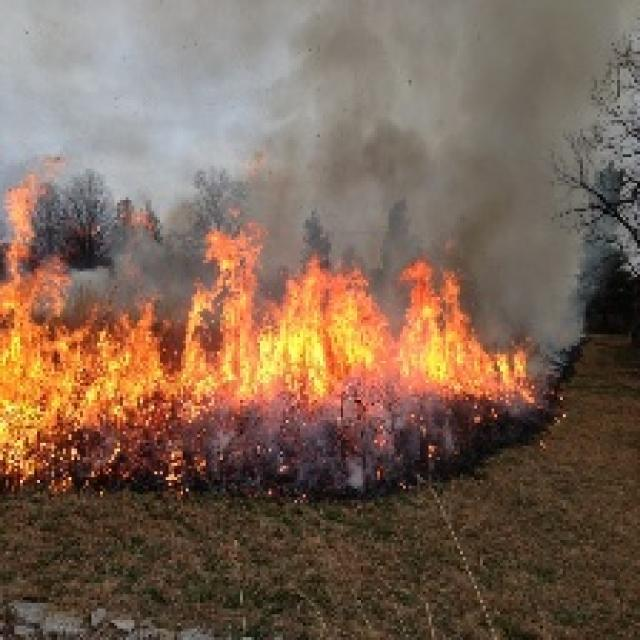Fire: (97, 234, 523, 408), (0, 186, 99, 487)
Smoke: (271, 0, 617, 227), (527, 227, 591, 352)
